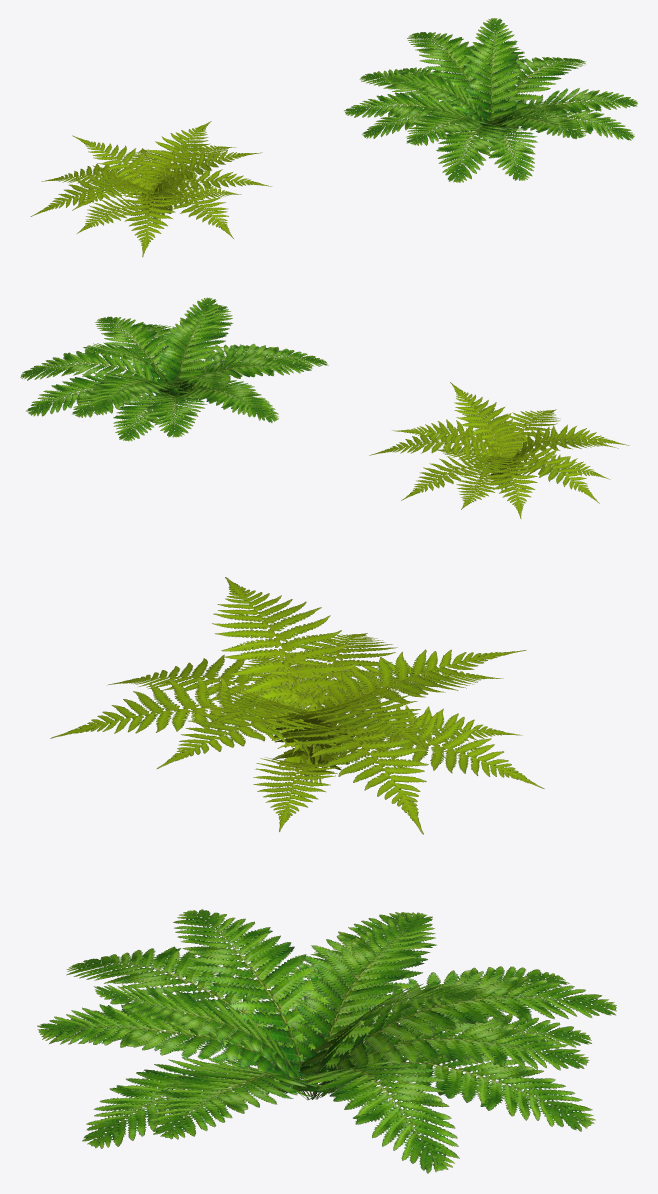
File: ferns.glb
3 renders of one model, top to bottom at view 1: azimuth 30°, elevation 25°; view 2: azimuth 150°, elevation 25°; view 3: azimuth 270°, elevation 25°, orthographic. The views are drawn at different scales.
Parts seen in each view (by area): view 1: Object_6, Object_4; view 2: Object_6, Object_4; view 3: Object_6, Object_4.
Boxes of the visible parts, x1,y1,x2,y2 form: Object_6: [344, 18, 637, 182]; Object_4: [30, 121, 271, 257]; Object_6: [20, 297, 328, 441]; Object_4: [369, 382, 629, 518]; Object_6: [37, 909, 616, 1173]; Object_4: [50, 577, 544, 834].
Size of the model in its own units: 2.34 by 0.3096 by 1.06.
Materials: 2 (2 with a texture image).
